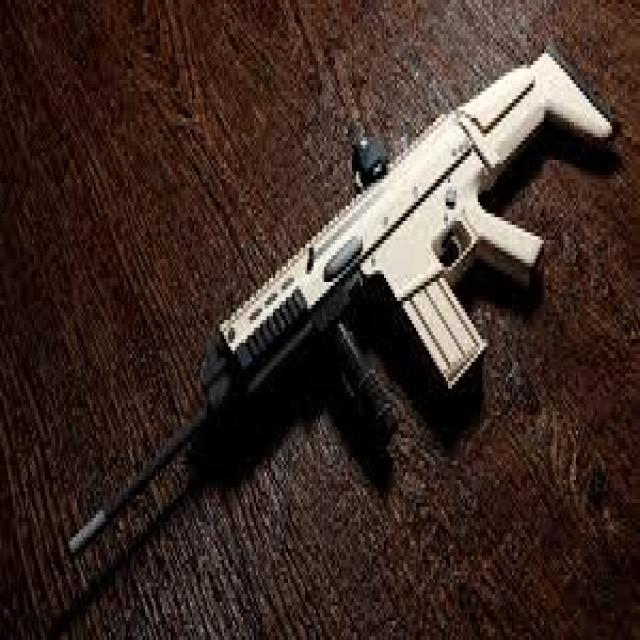Gun: (48, 39, 608, 562)
